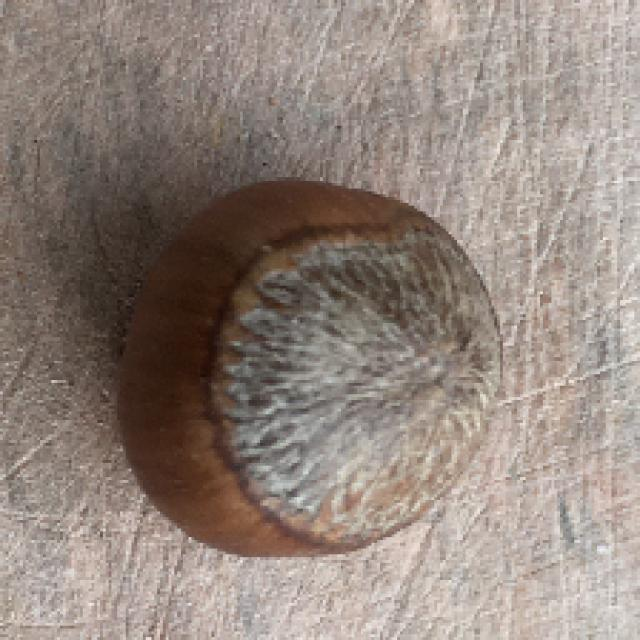qualityHazelnut: (120, 174, 503, 564)
